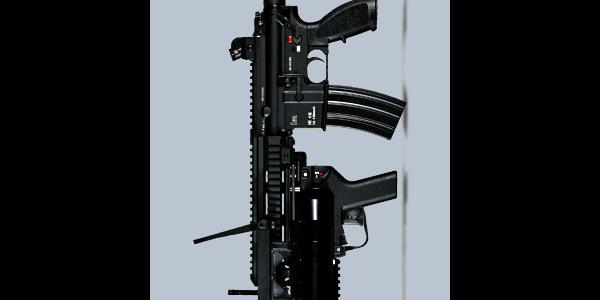gun: (229, 0, 407, 300)
